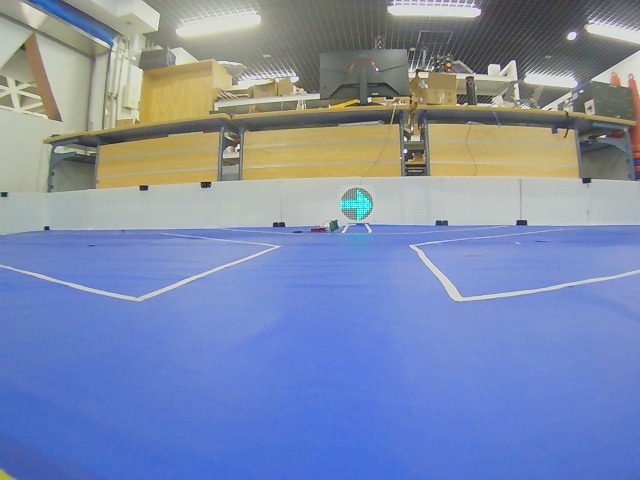right_green: (340, 188, 373, 221)
